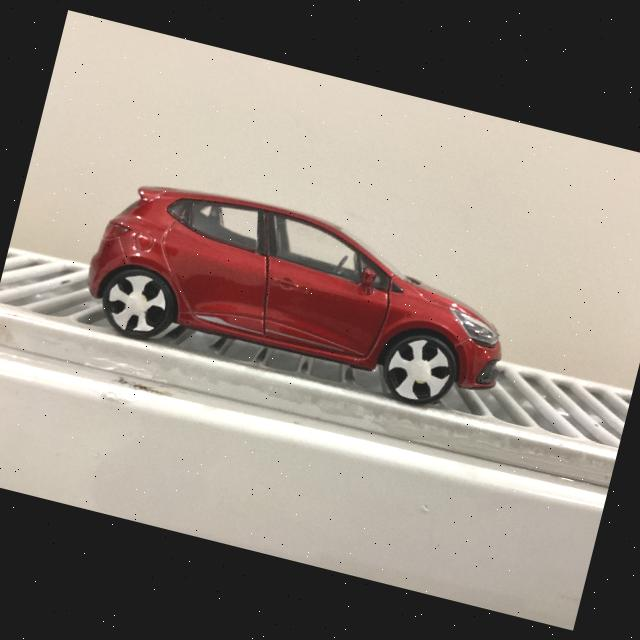Yanlis_Jant: (381, 333, 456, 408), (100, 267, 172, 339)
